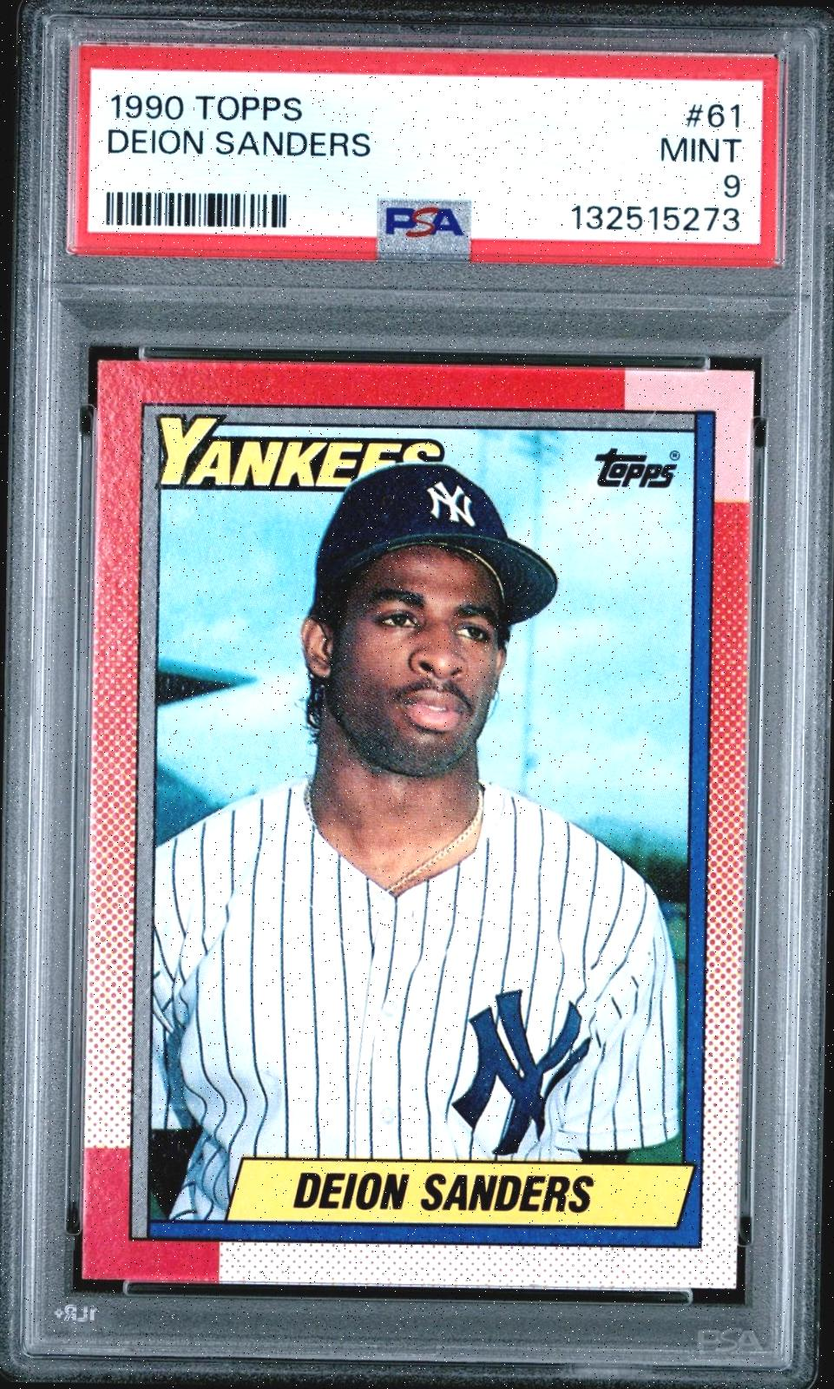card-2UtV: (80, 358, 755, 1290)
